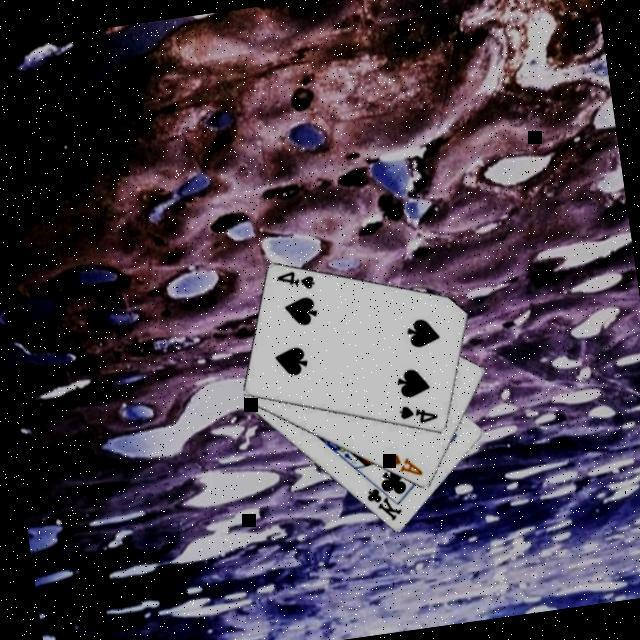4S: (394, 400, 439, 430), (272, 267, 317, 297)
AD: (382, 450, 425, 485)
KC: (361, 475, 405, 528)
